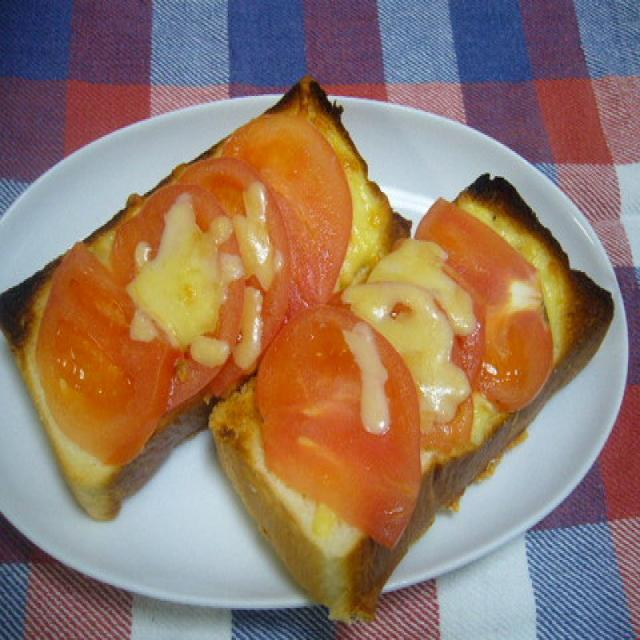面包点心: (1, 70, 628, 630)
